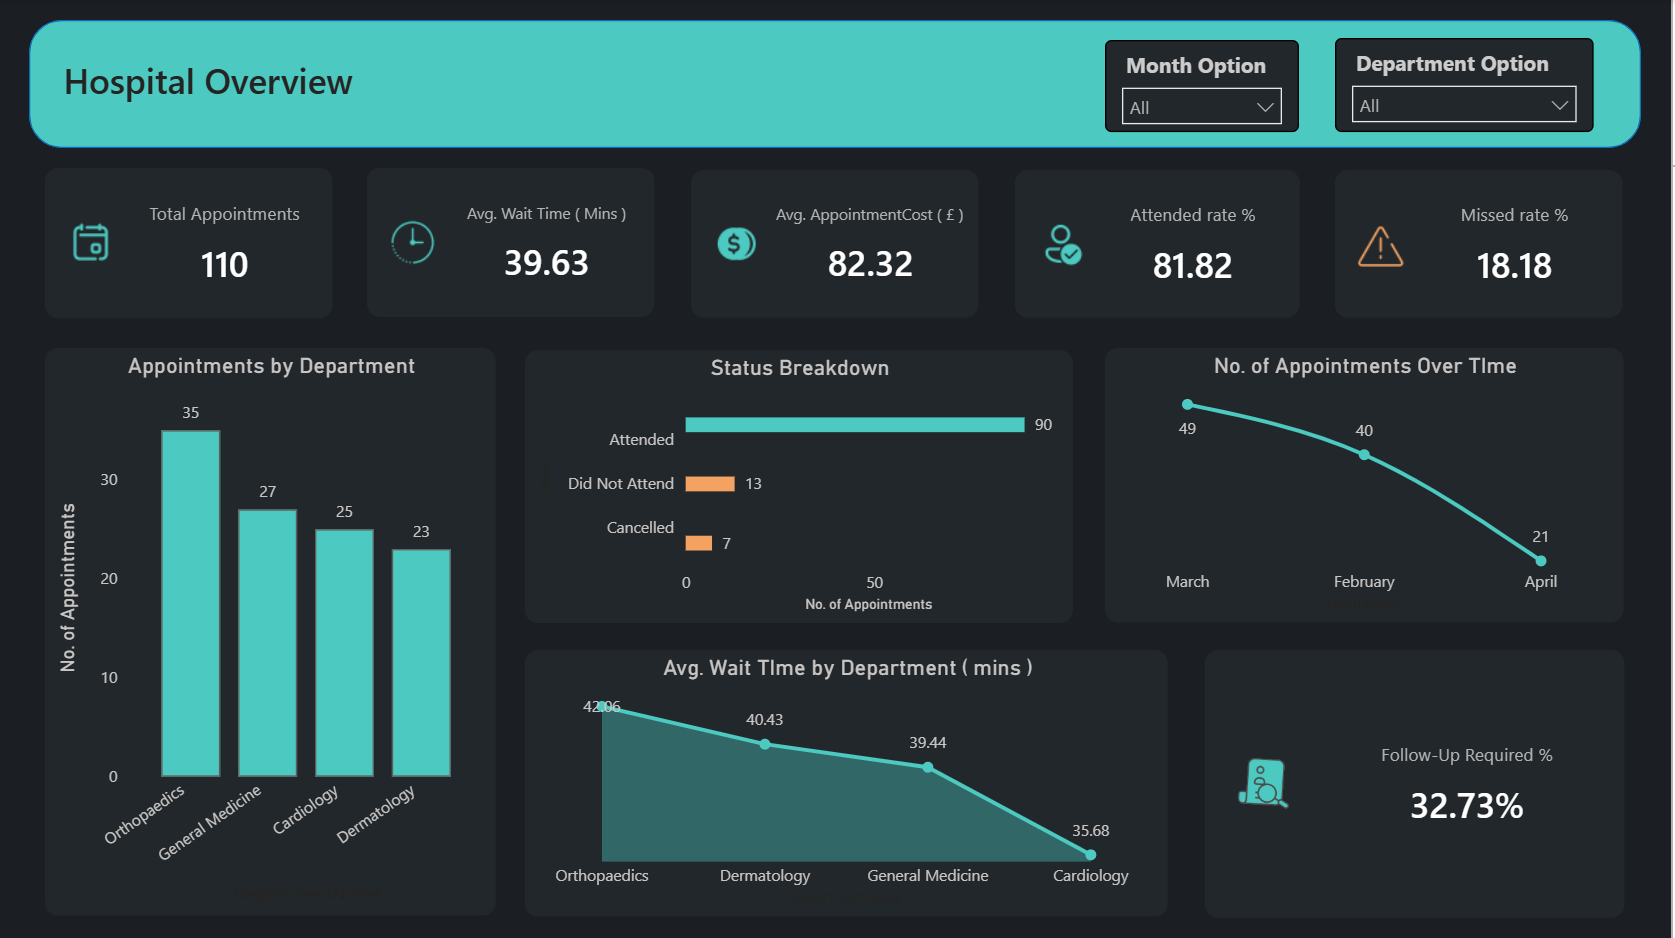

The dashboard page shown, as its layout file describes it:
{"tool":"powerbi","page":{"name":"Hospital Overview 📊","canvas":[1280,720],"ordinal":0},"visuals":[{"type":"shape","box":[23,16.8,1234.1,98],"z":0},{"type":"cardVisual","title":"Total Appointment","fields":{"Data":["CountNonNull(hospitaldb vw_appointments_clean.AppointmentID)"]},"box":[35.2,129.4,220,115.1],"z":0,"group":"g1"},{"type":"textbox","box":[23,39.8,274.1,50.5],"z":1000},{"type":"cardVisual","title":"Total Appointment","fields":{"Data":["Avg(hospitaldb vw_appointments_clean.WaitMinutes)"]},"box":[282.3,129.5,220,114.8],"z":1000,"group":"g1"},{"type":"group","id":"g1","title":"Group 1","box":[35.2,129.4,1208.1,115.1],"z":2000},{"type":"cardVisual","title":"Total Appointment","fields":{"Data":["Avg(hospitaldb vw_appointments_clean.AppointmentCostValue)"]},"box":[529.4,130.2,220.5,113.5],"z":2000,"group":"g1"},{"type":"cardVisual","title":"Total Appointment","fields":{"Data":["hospitaldb vw_appointments_clean.Attended %"]},"box":[777,130.2,218.9,113.5],"z":3000,"group":"g1"},{"type":"clusteredColumnChart","title":"Appointments by Department","fields":{"Y":["CountNonNull(hospitaldb vw_appointments_clean.AppointmentID)"],"Category":["hospitaldb dim_department.DepartmentName"]},"box":[35.2,268.5,345.2,434.7],"z":3000},{"type":"cardVisual","title":"Total Appointment","fields":{"Data":["hospitaldb vw_appointments_clean.Missed %"]},"box":[1023.1,130.2,220.5,113.5],"z":4000,"group":"g1"},{"type":"cardVisual","title":"Total Appointment","fields":{"Data":["hospitaldb vw_appointments_clean.Follow-Up Required %"]},"box":[923,498.5,321.3,205.3],"z":4000},{"type":"clusteredBarChart","title":"Status Breakdown","fields":{"Y":["CountNonNull(hospitaldb vw_appointments_clean.AppointmentID)"],"Category":["hospitaldb vw_appointments_clean.Status"],"Series":["hospitaldb vw_appointments_clean.Status"]},"box":[402.9,269,419.4,209.1],"z":5000},{"type":"lineChart","title":"No. of Appointments Over TIme","fields":{"Category":["hospitaldb dim_date.MonthName"],"Y":["CountNonNull(hospitaldb vw_appointments_clean.AppointmentID)"]},"box":[847,267.5,396.9,210.1],"z":6000},{"type":"areaChart","title":"Avg. Wait TIme by Department ( mins )","fields":{"Category":["hospitaldb dim_department.DepartmentName"],"Y":["Avg(hospitaldb vw_appointments_clean.WaitMinutes)"]},"box":[402.9,498.5,492.1,204],"z":7000},{"type":"slicer","fields":{"Values":["hospitaldb dim_department.DepartmentName"]},"box":[1022.7,30.4,198.2,71.9],"z":7501},{"type":"slicer","fields":{"Values":["hospitaldb dim_date.MonthName"]},"box":[846.9,32,148.6,70.3],"z":7502}]}

Visuals, with their boxes in screenshot pixels (x1, y1, x2, y2), scaled from the page's 1280x720 canvas onto the 1675x938 screenshot:
shape: bbox(30, 22, 1645, 150)
"Total Appointment" cardVisual: bbox(46, 169, 334, 319)
textbox: bbox(30, 52, 389, 118)
"Total Appointment" cardVisual: bbox(369, 169, 657, 318)
"Group 1" group: bbox(46, 169, 1627, 319)
"Total Appointment" cardVisual: bbox(693, 170, 981, 317)
"Total Appointment" cardVisual: bbox(1017, 170, 1303, 317)
"Appointments by Department" clusteredColumnChart: bbox(46, 350, 498, 916)
"Total Appointment" cardVisual: bbox(1339, 170, 1627, 317)
"Total Appointment" cardVisual: bbox(1208, 649, 1628, 917)
"Status Breakdown" clusteredBarChart: bbox(527, 350, 1076, 623)
"No. of Appointments Over TIme" lineChart: bbox(1108, 348, 1628, 622)
"Avg. Wait TIme by Department ( mins )" areaChart: bbox(527, 649, 1171, 915)
slicer - hospitaldb dim_department.DepartmentName: bbox(1338, 40, 1598, 133)
slicer - hospitaldb dim_date.MonthName: bbox(1108, 42, 1303, 133)
